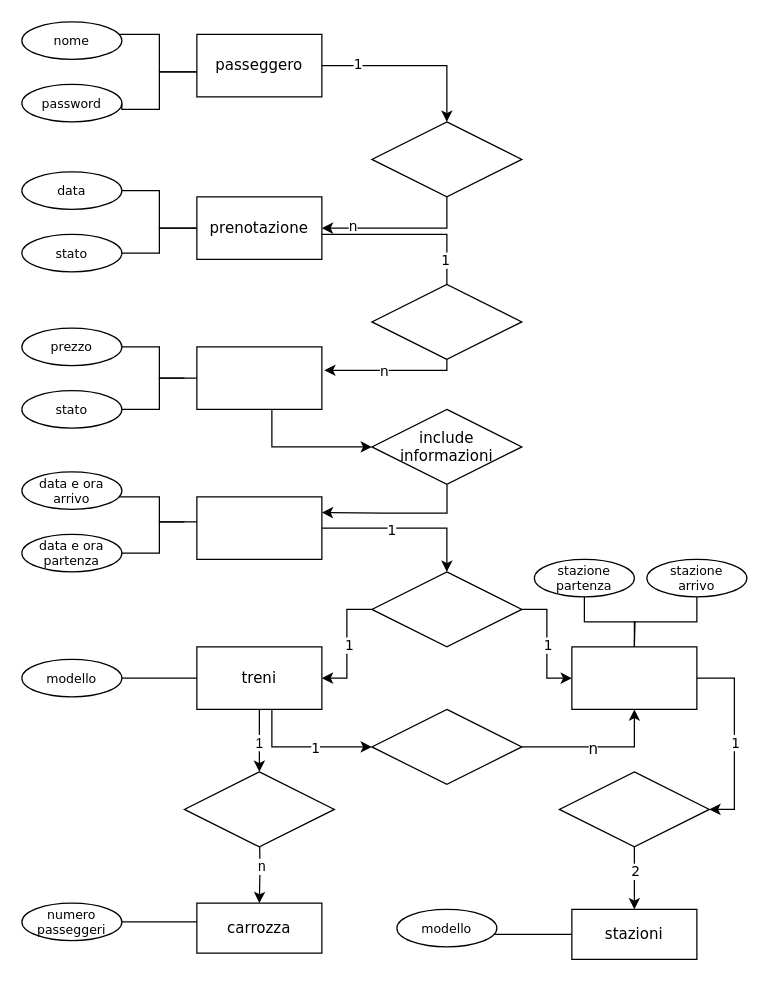
This 769x981 diagram has some shape labels left out. The shapes that lost their labels are listed below. From the top down, each one's centre as x and y in pixels, then its label:
At (446,159): "effettua".
At (446,321): "associa".
At (259,377): "biglietti".
At (259,527): "orari".
At (446,609): "è associato".
At (634,677): "tratta".
At (446,746): "percorre".
At (258,809): "ha".
At (633,809): "collega".
